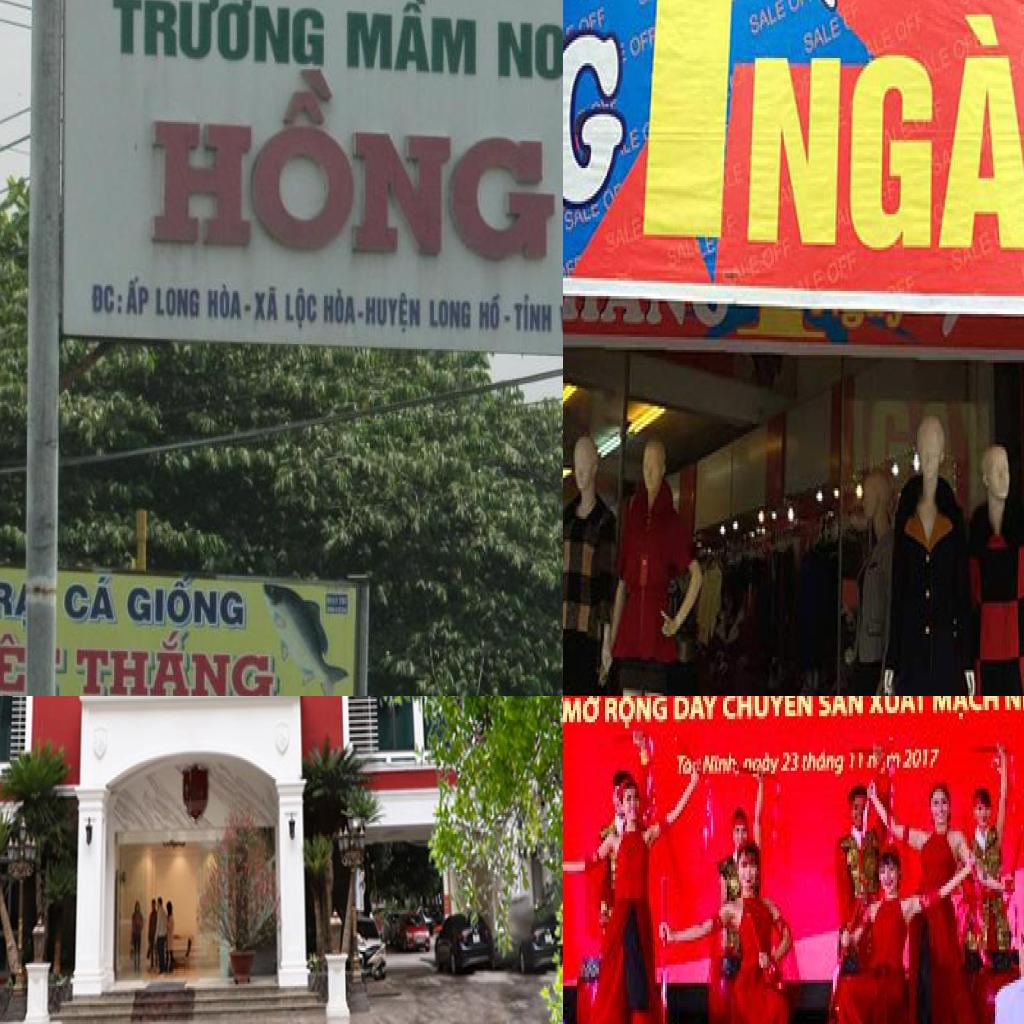text: (139, 60, 557, 268), (743, 1, 1024, 257), (611, 0, 750, 252), (112, 0, 330, 72), (75, 627, 288, 696), (343, 0, 477, 79), (130, 568, 252, 634), (496, 14, 563, 82), (64, 572, 120, 626), (603, 696, 669, 737), (723, 696, 815, 725), (365, 290, 421, 336), (604, 212, 647, 260), (802, 14, 846, 60), (0, 627, 29, 696), (154, 282, 201, 324), (931, 696, 1003, 722), (426, 294, 474, 332), (284, 284, 319, 336), (510, 292, 553, 334), (664, 232, 705, 276), (825, 245, 863, 291), (205, 279, 243, 324), (749, 0, 790, 40), (320, 284, 356, 329), (801, 746, 847, 780), (869, 696, 927, 722), (895, 4, 929, 48), (817, 696, 867, 725), (88, 279, 126, 317), (563, 696, 603, 731), (671, 696, 719, 725), (761, 234, 794, 276), (248, 281, 280, 323), (629, 22, 658, 66), (126, 274, 152, 322), (701, 746, 739, 777), (901, 746, 943, 774), (741, 752, 779, 780), (476, 293, 503, 332), (0, 574, 17, 622), (785, 0, 819, 19), (779, 749, 799, 777), (677, 749, 695, 780), (748, 247, 764, 281), (955, 0, 1000, 12), (628, 125, 644, 155), (847, 750, 865, 774), (883, 750, 901, 774), (563, 209, 576, 237), (1003, 696, 1024, 713), (636, 0, 659, 12), (867, 750, 879, 770), (240, 300, 254, 315), (504, 310, 514, 325), (359, 306, 366, 320)
